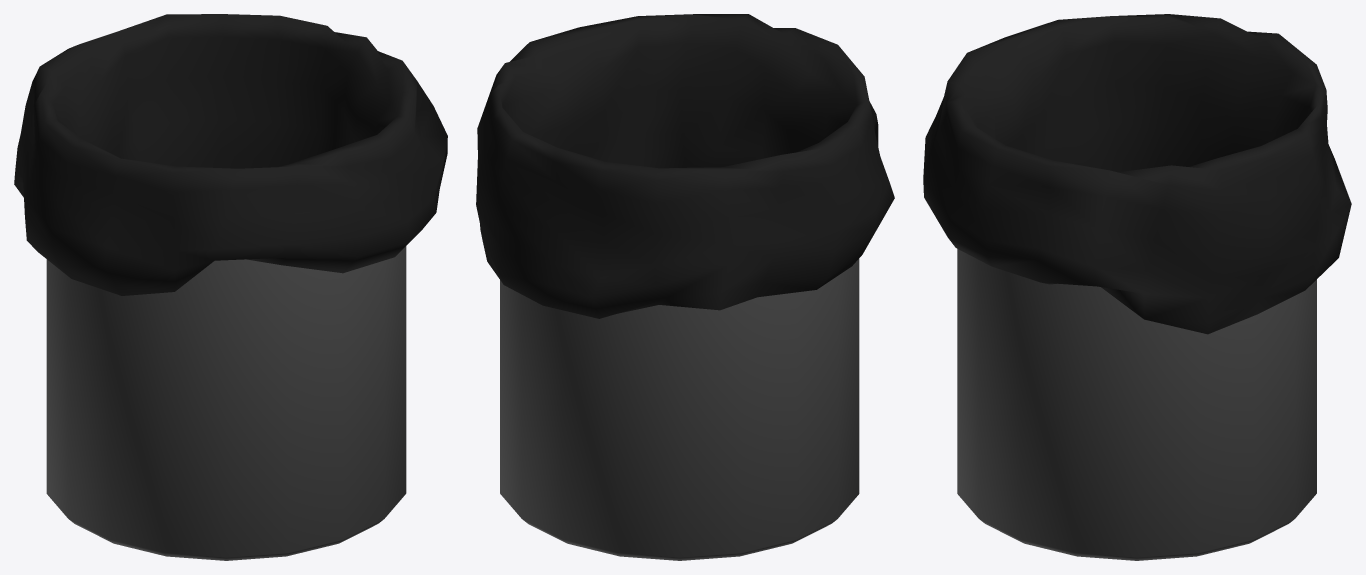
The model's file is Papelera.obj.
The picture shows the model from 3 angles, left to right: view 1: azimuth 30°, elevation 25°; view 2: azimuth 150°, elevation 25°; view 3: azimuth 270°, elevation 25°; orthographic projection.
Parts seen in each view (by area): view 1: Papelera; view 2: Papelera; view 3: Papelera.
Boxes of the visible parts, x1,y1,x2,y2 form: Papelera: (14,14,447,560); Papelera: (476,14,894,560); Papelera: (923,14,1351,560).
Size of the model in its own units: 1.4 by 1.38 by 1.34.
2 materials, 2 textured.
